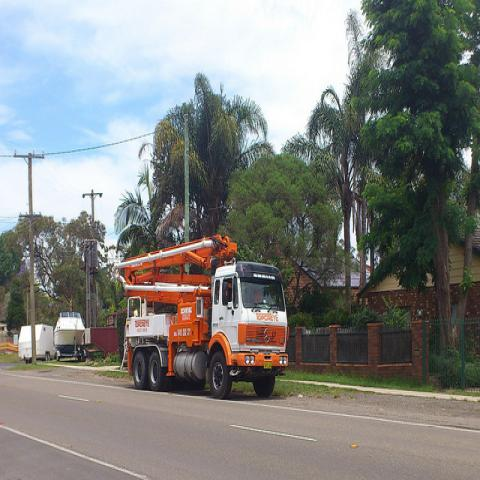truck: (110, 235, 290, 400)
